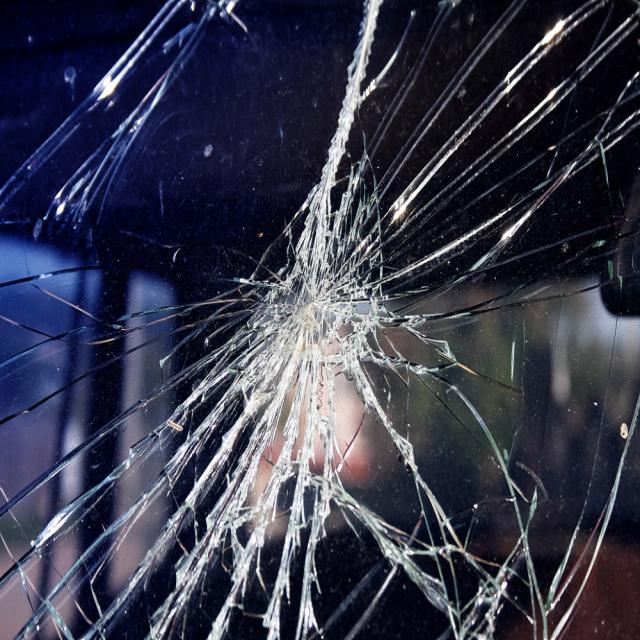Fissure: (0, 1, 638, 640)
